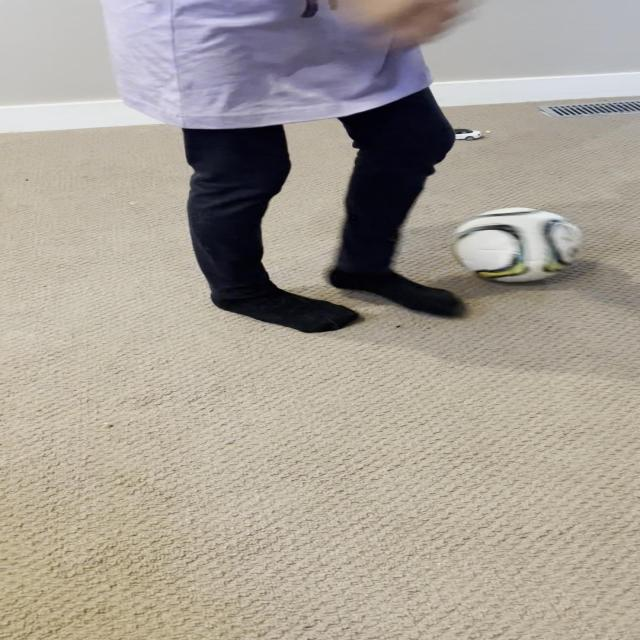Soccer Ball: (450, 207, 581, 283)
